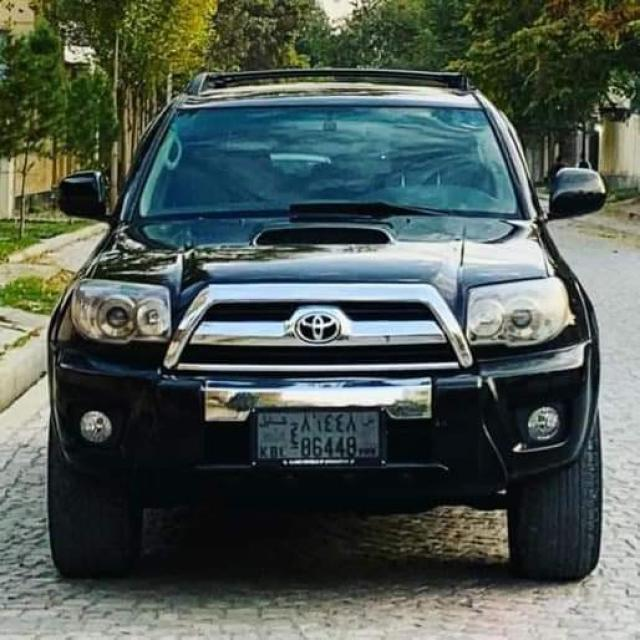Plate: (256, 410, 378, 460)
